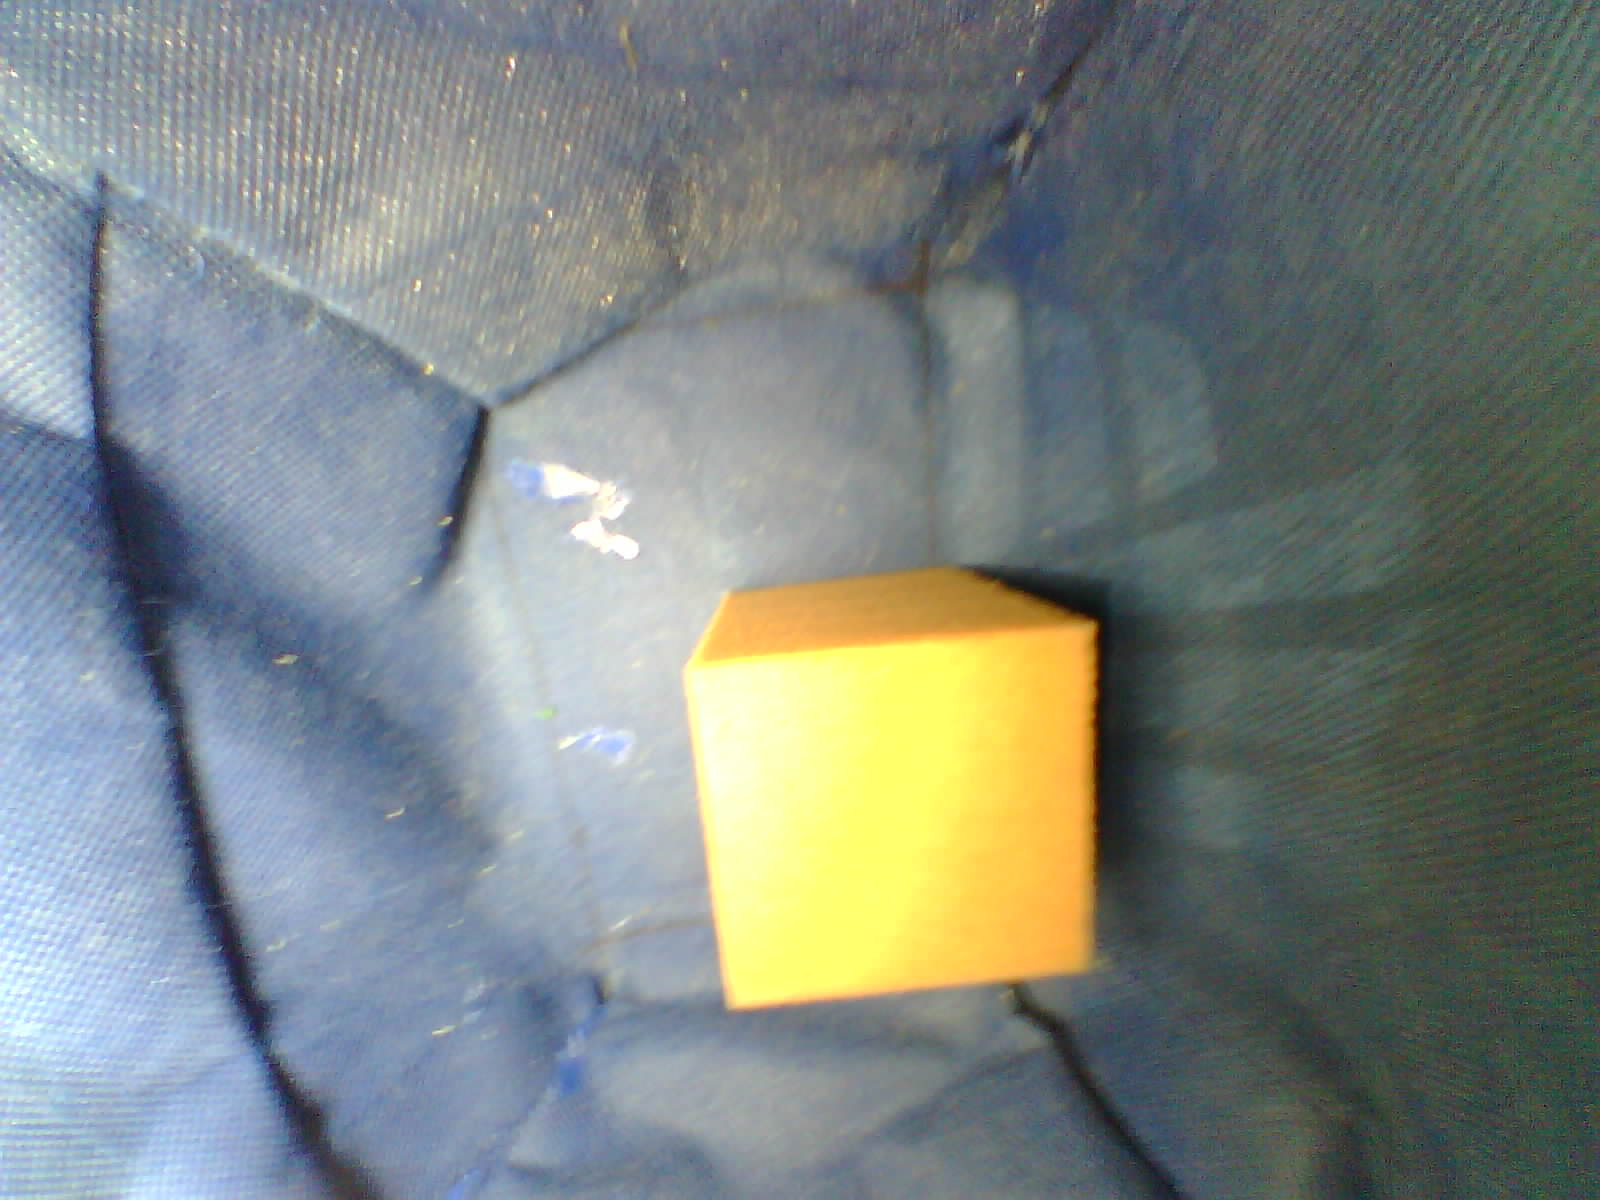cube-soft: (675, 552, 1115, 1021)
